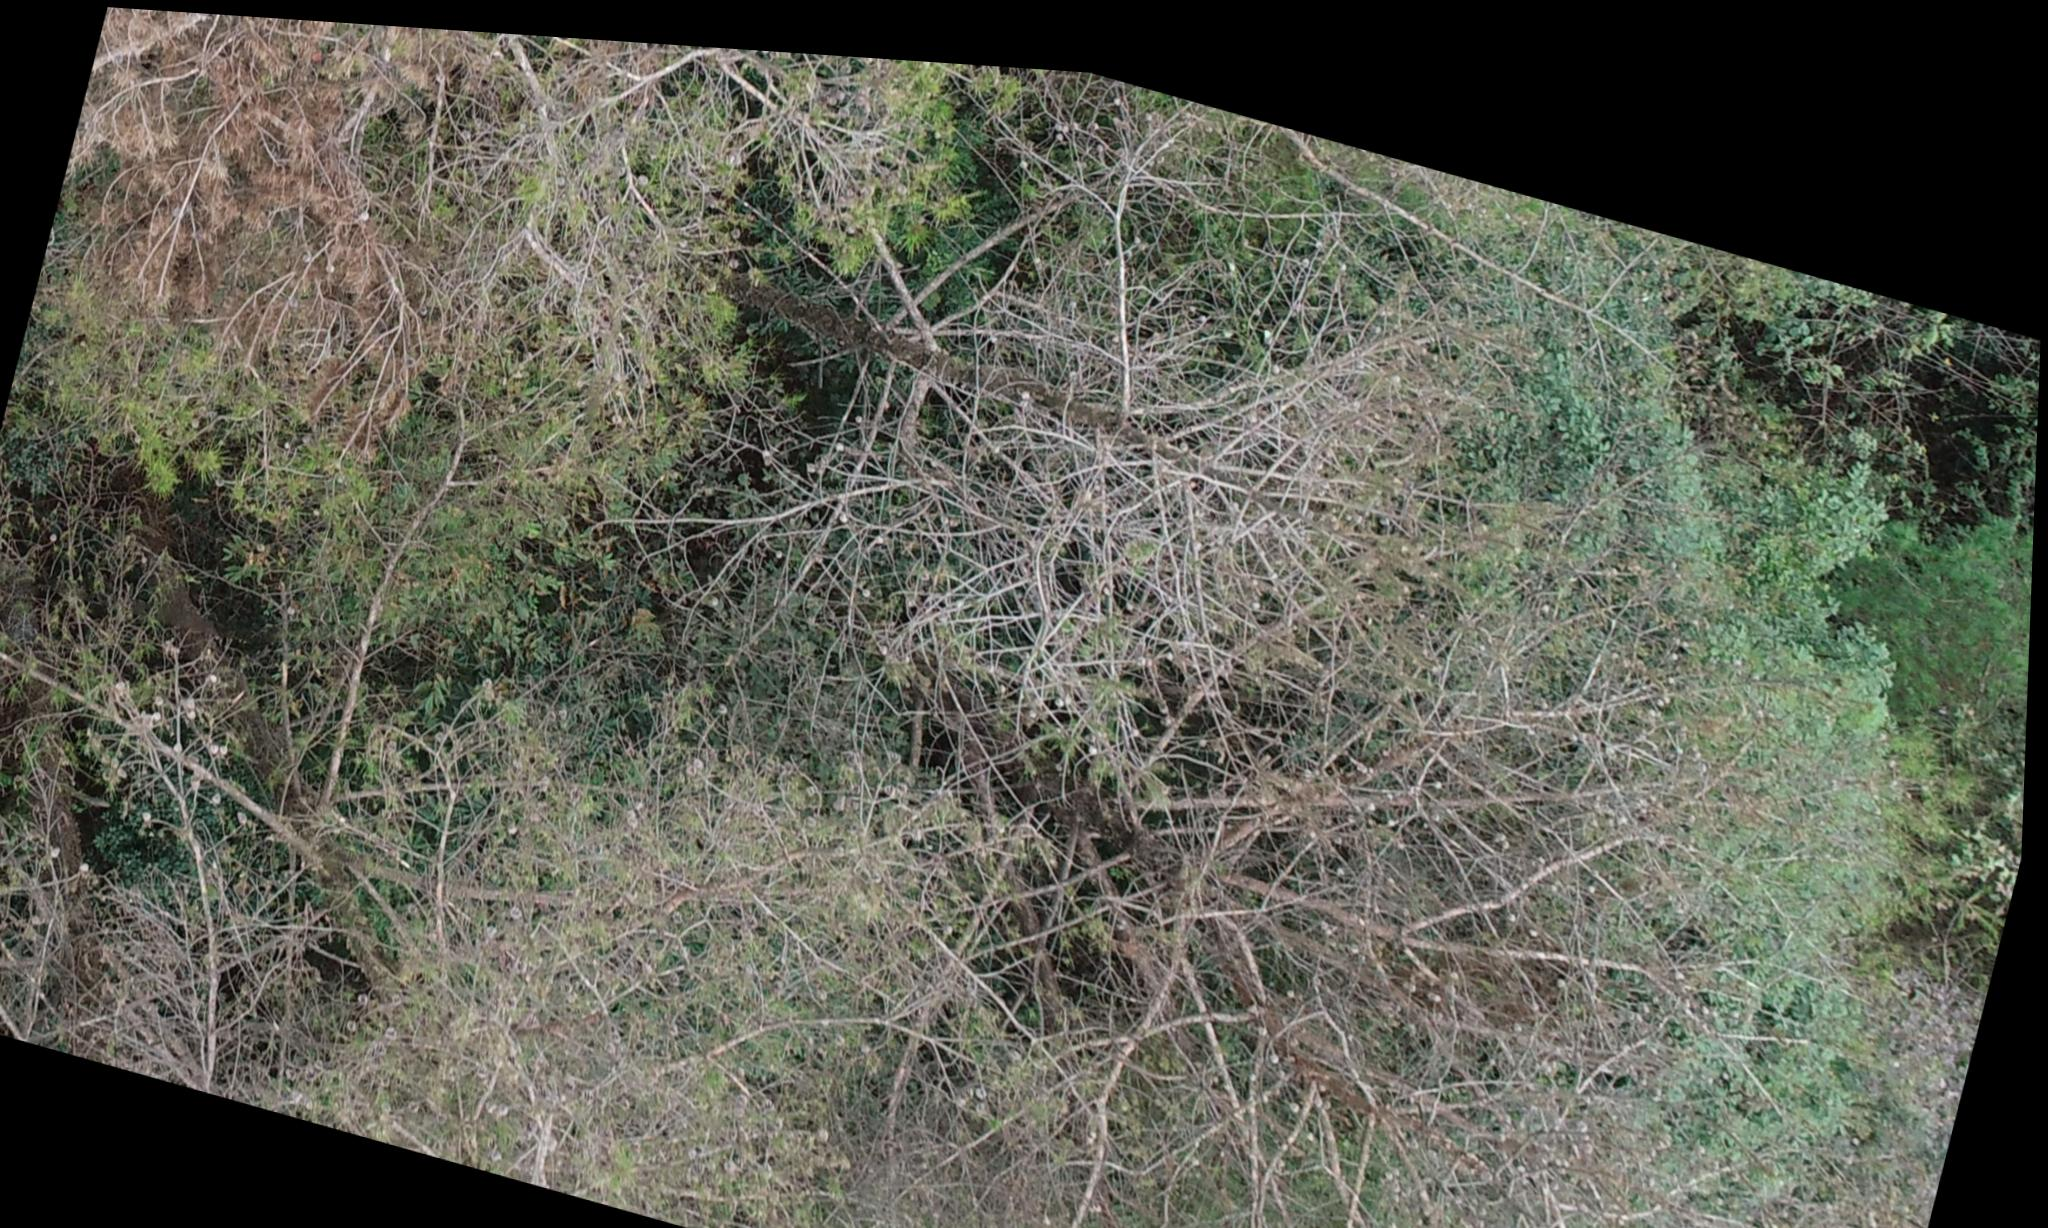dead: (709, 64, 1949, 1228), (13, 1, 922, 601), (0, 493, 699, 1190)
